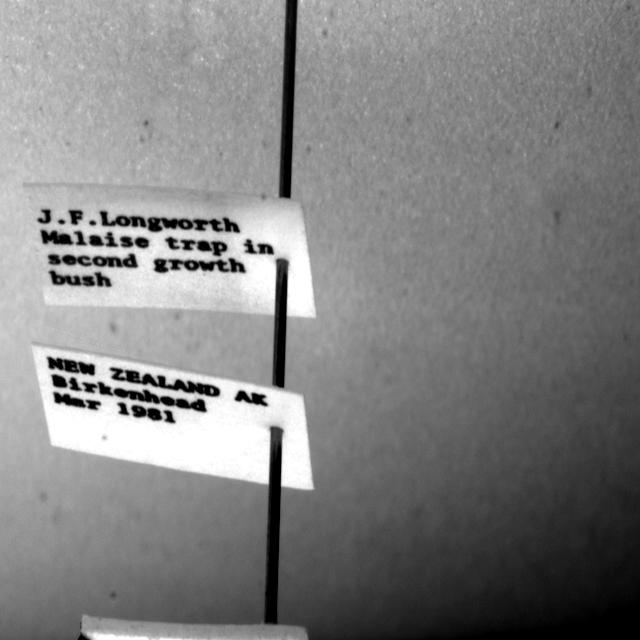typed_label: (32, 345, 314, 489), (25, 184, 316, 317)
